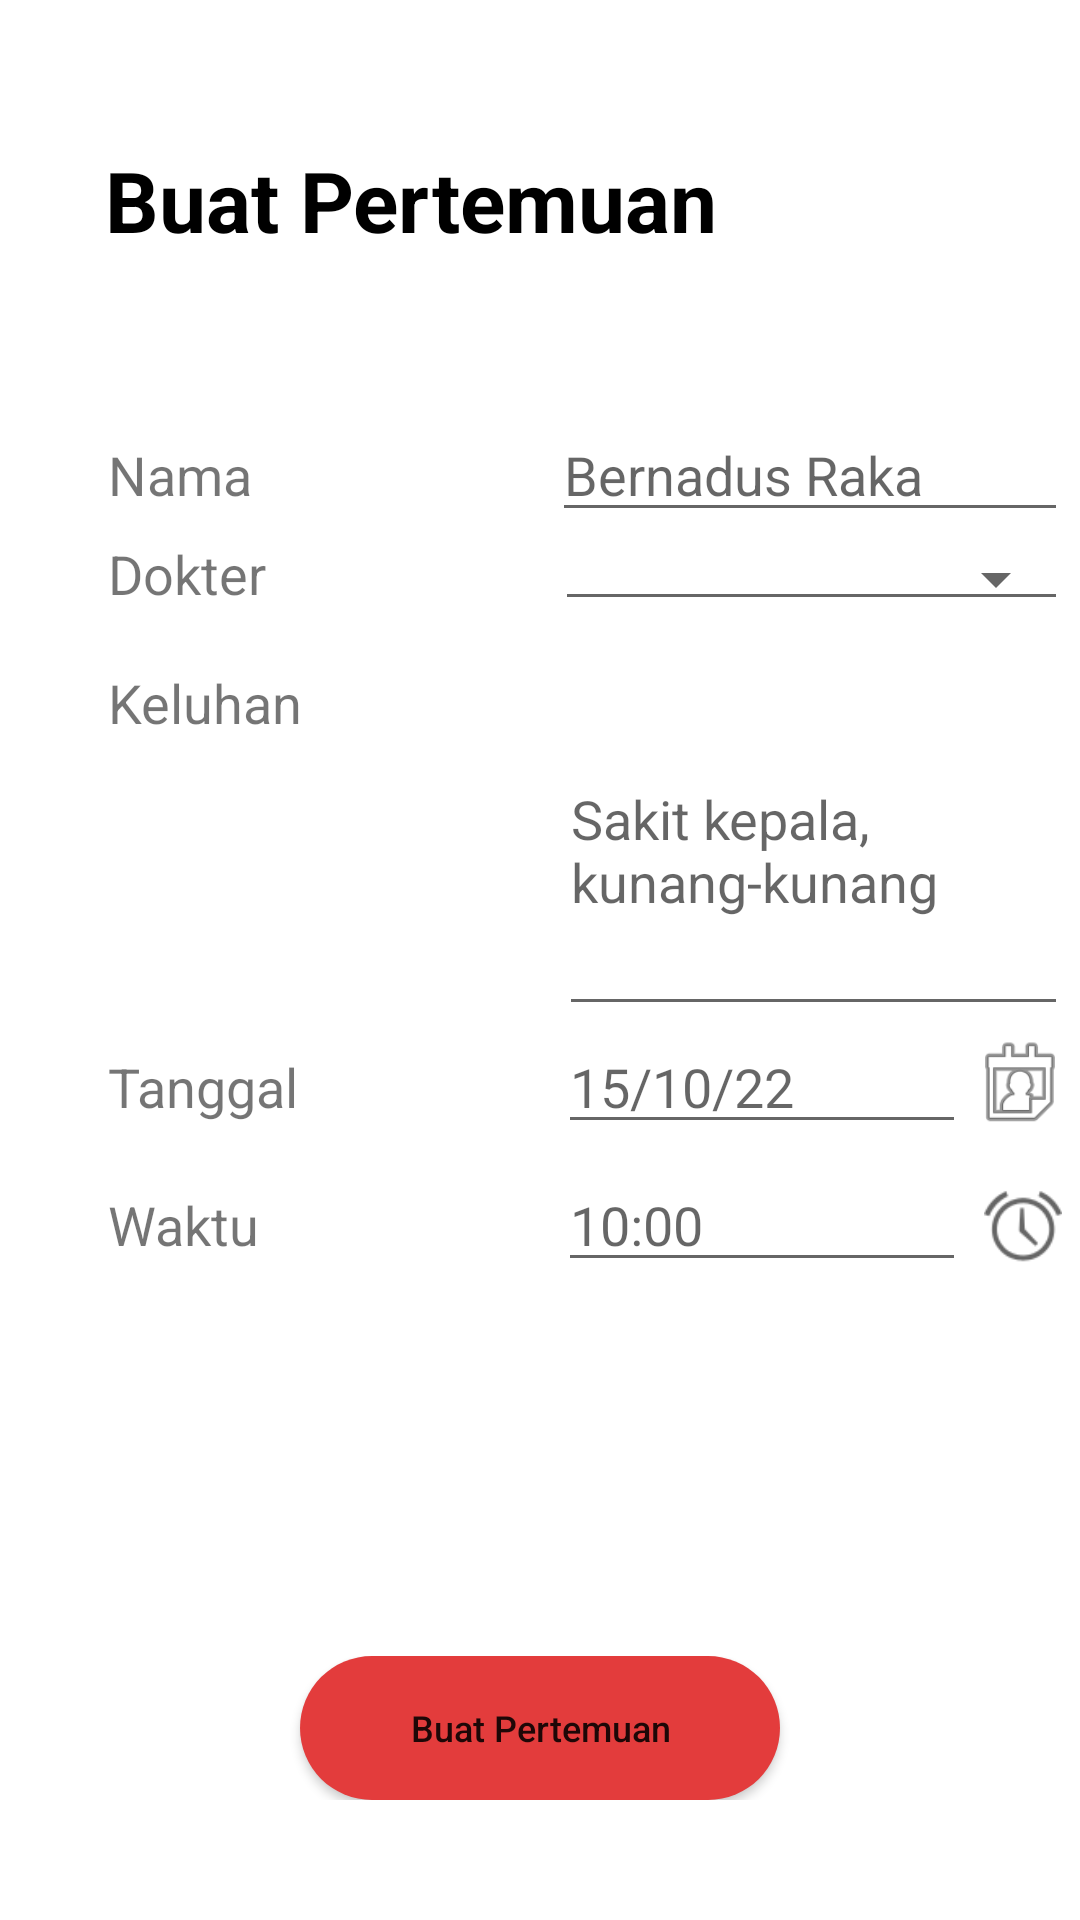

Named icons in this screenshot (1080 x 1920) and their centers, (x,y):
calendar: (1020,1081)
lock idle alarm: (1023,1226)
